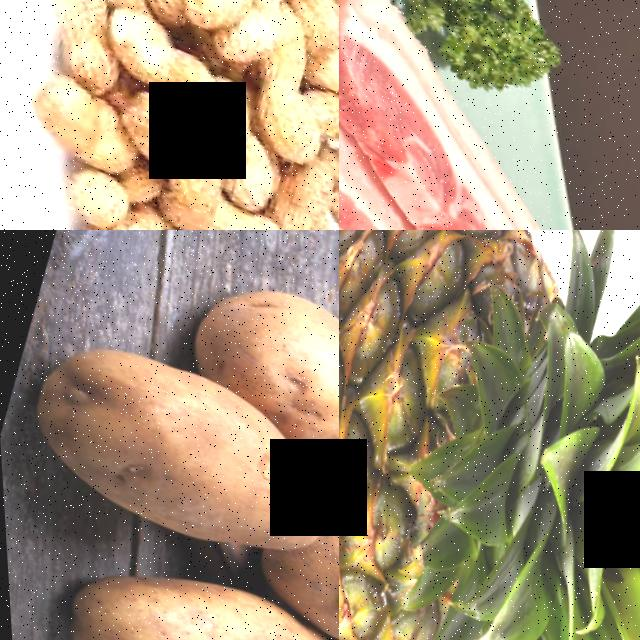broccoli: (388, 0, 580, 108)
peanuts: (84, 0, 236, 116), (107, 76, 221, 186), (236, 67, 330, 166), (26, 0, 115, 71), (45, 186, 164, 230), (162, 0, 279, 39)
pineapple: (339, 230, 640, 640)
pork belly: (365, 94, 522, 230), (339, 68, 437, 230), (339, 0, 434, 139)
potato: (4, 310, 339, 582), (44, 525, 339, 640), (177, 254, 339, 444)
